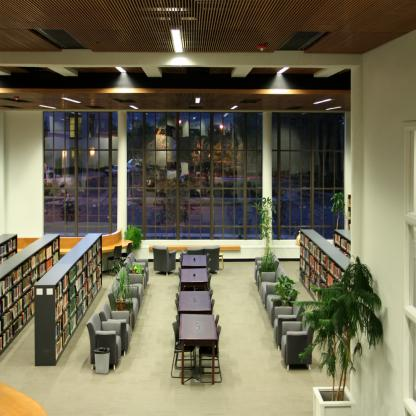book: (53, 272, 102, 362), (54, 259, 102, 341), (0, 235, 59, 300), (2, 249, 59, 316), (55, 247, 102, 324), (56, 236, 102, 304), (300, 231, 346, 282), (0, 297, 35, 355), (0, 280, 39, 332), (300, 240, 336, 288), (299, 256, 330, 294), (298, 266, 323, 308), (0, 233, 18, 259), (0, 246, 17, 268)
